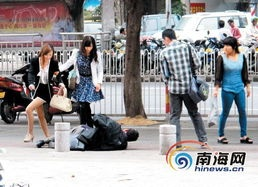falling: (35, 110, 139, 153)
